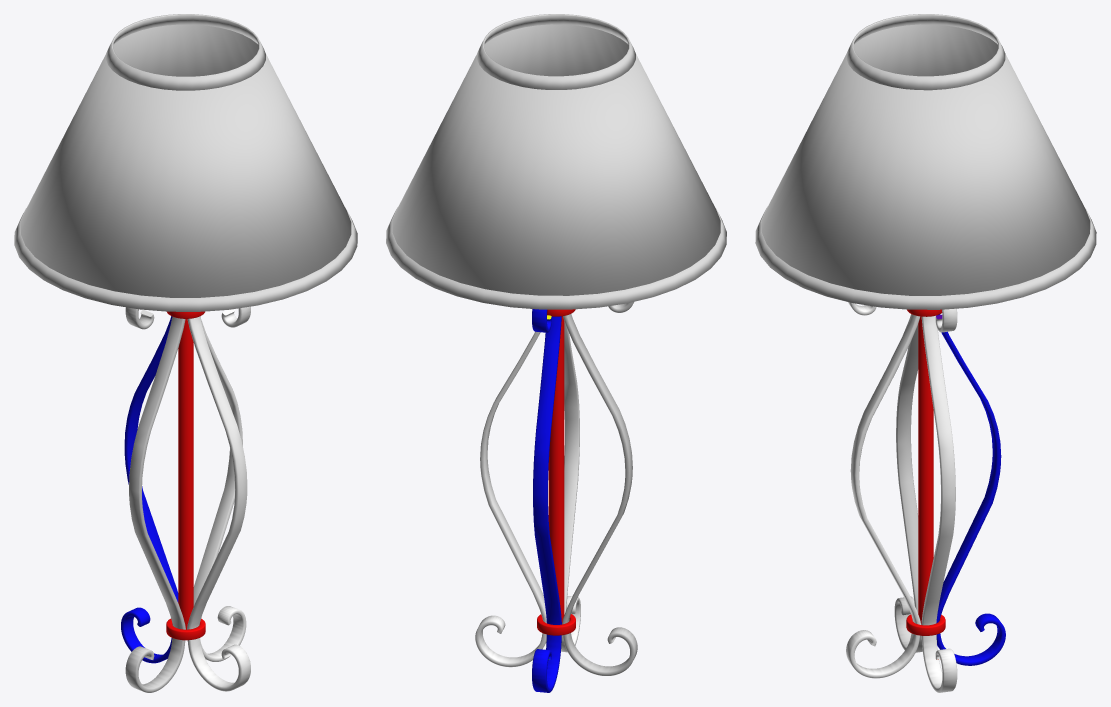
Rendered from dlamp_tris.obj.
The picture shows the model from 3 angles, left to right: view 1: azimuth 30°, elevation 25°; view 2: azimuth 150°, elevation 25°; view 3: azimuth 270°, elevation 25°; orthographic projection.
Visible parts, largest first — view 1: Lamp Shade Main Mesh, Lamp FootLamp Feet FeetDeco Mesh, Lamp FootLamp Feet Feet4 Mesh, Lamp Shade Edge Bottom Mesh, Lamp FootLamp Shaft Mesh, Lamp Shade Edge Top Mesh, Lamp FootLamp Feet Feet3 Mesh, Lamp FootLamp Feet Feet2 Mesh, Lamp FootLamp RingBottom Mesh; view 2: Lamp Shade Main Mesh, Lamp FootLamp Feet Feet2 Mesh, Lamp Shade Edge Bottom Mesh, Lamp FootLamp Feet FeetDeco Mesh, Lamp Shade Edge Top Mesh, Lamp FootLamp Feet Feet3 Mesh, Lamp FootLamp Feet Feet4 Mesh, Lamp FootLamp Shaft Mesh; view 3: Lamp Shade Main Mesh, Lamp FootLamp Feet Feet3 Mesh, Lamp Shade Edge Bottom Mesh, Lamp FootLamp Feet Feet4 Mesh, Lamp FootLamp Feet FeetDeco Mesh, Lamp Shade Edge Top Mesh, Lamp FootLamp Shaft Mesh, Lamp FootLamp Feet Feet2 Mesh.
Part boxes in pixels (x1,y1,x2,y2): Lamp Shade Main Mesh: (20, 24, 351, 297); Lamp FootLamp Feet FeetDeco Mesh: (125, 307, 185, 692); Lamp FootLamp Feet Feet4 Mesh: (187, 306, 250, 691); Lamp Shade Edge Bottom Mesh: (14, 208, 357, 311); Lamp FootLamp Shaft Mesh: (178, 319, 193, 629); Lamp Shade Edge Top Mesh: (106, 14, 265, 90); Lamp FootLamp Feet Feet3 Mesh: (193, 316, 246, 661); Lamp FootLamp Feet Feet2 Mesh: (121, 316, 178, 663); Lamp FootLamp RingBottom Mesh: (166, 618, 205, 640); Lamp Shade Main Mesh: (392, 24, 720, 295); Lamp FootLamp Feet Feet2 Mesh: (532, 309, 561, 692); Lamp Shade Edge Bottom Mesh: (386, 207, 726, 309); Lamp FootLamp Feet FeetDeco Mesh: (562, 302, 637, 675); Lamp Shade Edge Top Mesh: (477, 14, 635, 89); Lamp FootLamp Feet Feet3 Mesh: (475, 331, 546, 667); Lamp FootLamp Feet Feet4 Mesh: (561, 322, 580, 652); Lamp FootLamp Shaft Mesh: (548, 316, 564, 622); Lamp Shade Main Mesh: (761, 24, 1090, 295); Lamp FootLamp Feet Feet3 Mesh: (921, 308, 957, 692); Lamp Shade Edge Bottom Mesh: (755, 206, 1096, 309); Lamp FootLamp Feet Feet4 Mesh: (846, 302, 920, 678); Lamp FootLamp Feet FeetDeco Mesh: (894, 324, 922, 652); Lamp Shade Edge Top Mesh: (846, 14, 1005, 90); Lamp FootLamp Shaft Mesh: (918, 316, 933, 624); Lamp FootLamp Feet Feet2 Mesh: (936, 314, 1005, 665).
Bounding box in the file's own units: 34.69 × 70.05 × 34.69.
